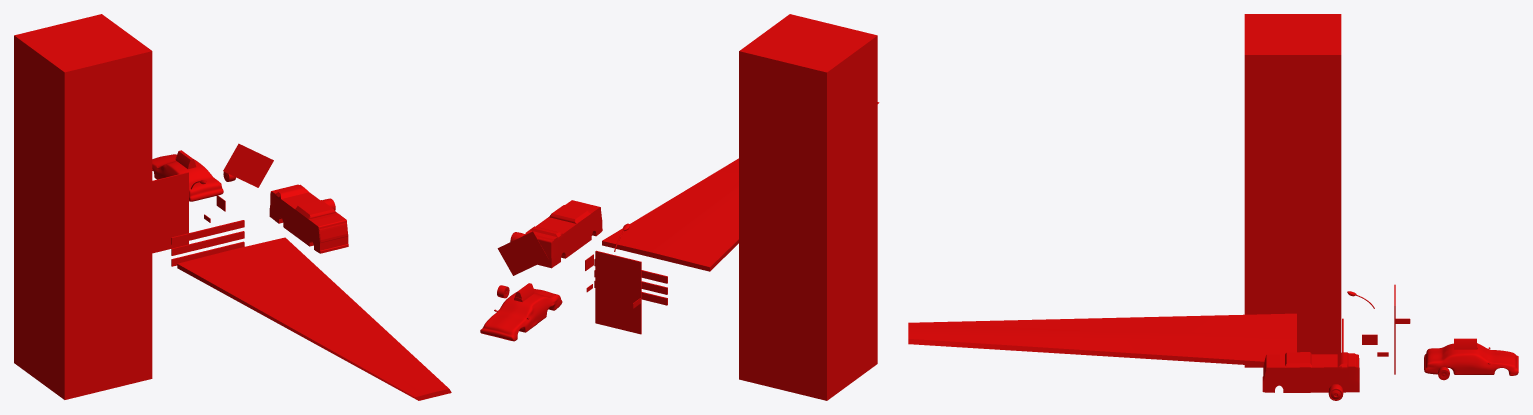
Rendered from HighRes.fbx.
3 renders of one model, left to right at view 1: azimuth 30°, elevation 25°; view 2: azimuth 150°, elevation 25°; view 3: azimuth 270°, elevation 25°, orthographic. The views are drawn at different scales.
Visible parts, largest first — view 1: pCube2, pCube41, pPlane4, pCube40, pPlane3, pCube4, pCube39, pCube84, pCube85; view 2: pCube2, pCube41, pCube40, pPlane4, pPlane3, pCube4; view 3: pCube2, pCube41, pPlane4, pPlane3.
Part boxes in pixels (x1,y1,x2,y2): pCube2: (14, 14, 152, 399); pCube41: (177, 237, 451, 400); pPlane4: (269, 184, 348, 253); pCube40: (152, 172, 188, 253); pPlane3: (152, 154, 223, 201); pCube4: (223, 143, 273, 187); pCube39: (171, 220, 244, 244); pCube84: (171, 231, 244, 255); pCube85: (171, 241, 244, 266); pCube2: (739, 14, 877, 400); pCube41: (602, 102, 879, 271); pCube40: (595, 250, 641, 334); pPlane4: (525, 200, 602, 268); pPlane3: (480, 289, 562, 341); pCube4: (497, 231, 548, 275); pCube2: (1244, 14, 1341, 367); pCube41: (908, 313, 1296, 365); pPlane4: (1262, 352, 1359, 392); pPlane3: (1424, 343, 1518, 375).
Bounding box in the file's own units: 63.94 × 63.33 × 112.
